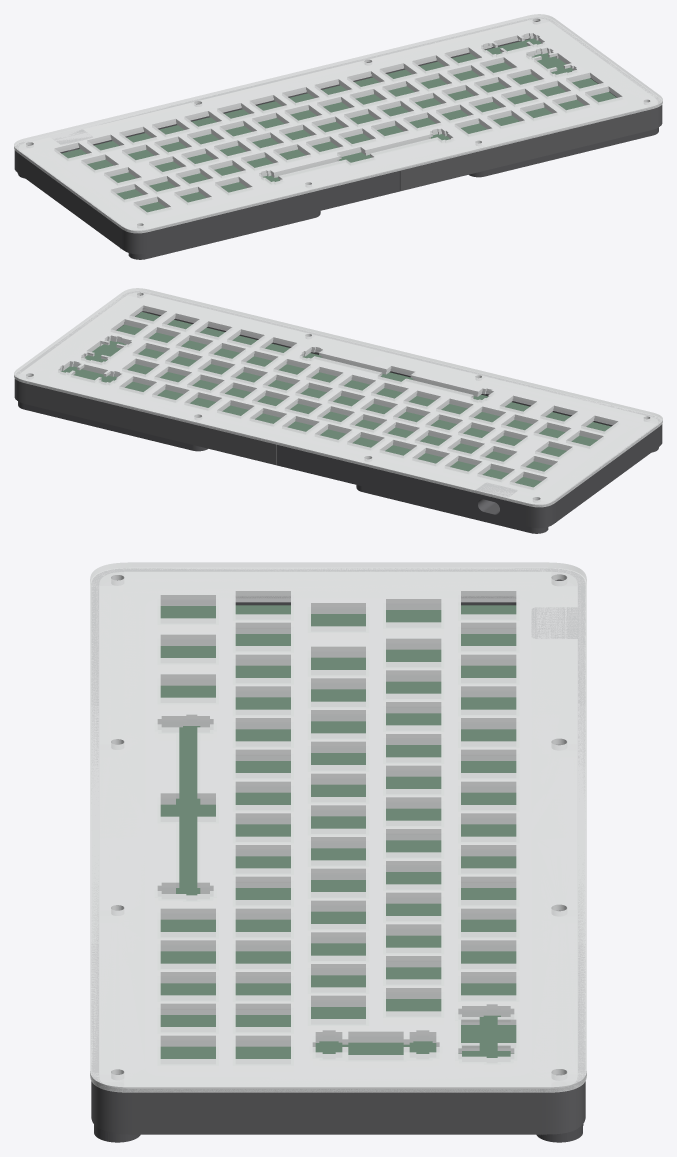
The picture shows the model from 3 angles, top to bottom: view 1: azimuth 30°, elevation 25°; view 2: azimuth 150°, elevation 25°; view 3: azimuth 270°, elevation 25°; orthographic projection. The views are drawn at different scales.
Parts seen in each view (by area): view 1: p0_top, p4_pcb, p1_stiffener, p2_frame_left, p3_frame_right, p5_foot_1, p7_foot_3; view 2: p0_top, p4_pcb, p1_stiffener, p2_frame_left, p3_frame_right, p6_foot_2, p8_foot_4; view 3: p0_top, p4_pcb, p1_stiffener, p3_frame_right, p2_frame_left.
Part boxes in pixels (box(x1,y1,x2,y2)): p0_top: box(14, 14, 662, 233); p4_pcb: box(61, 38, 616, 212); p1_stiffener: box(29, 35, 626, 222); p2_frame_left: box(14, 80, 399, 254); p3_frame_right: box(278, 17, 662, 191); p5_foot_1: box(128, 211, 320, 259); p7_foot_3: box(469, 127, 658, 177); p0_top: box(14, 288, 662, 507); p4_pcb: box(61, 312, 611, 487); p1_stiffener: box(25, 296, 647, 500); p2_frame_left: box(277, 354, 662, 528); p3_frame_right: box(14, 291, 398, 465); p6_foot_2: box(356, 485, 548, 533); p8_foot_4: box(18, 401, 207, 451); p0_top: box(90, 562, 586, 1092); p4_pcb: box(160, 605, 516, 1058); p1_stiffener: box(100, 574, 576, 1080); p3_frame_right: box(91, 910, 585, 1135); p2_frame_left: box(92, 569, 584, 744).
Bounding box in the file's own units: 315 × 16.9 × 126.
